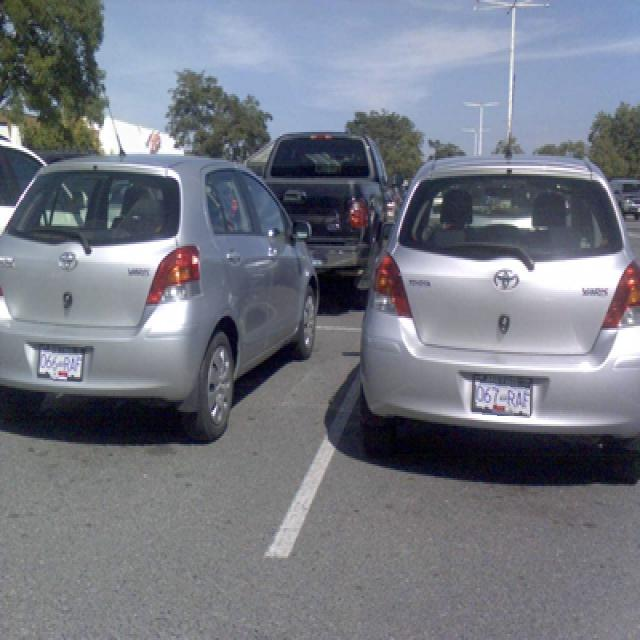licence: (472, 376, 530, 416), (35, 344, 85, 382)
